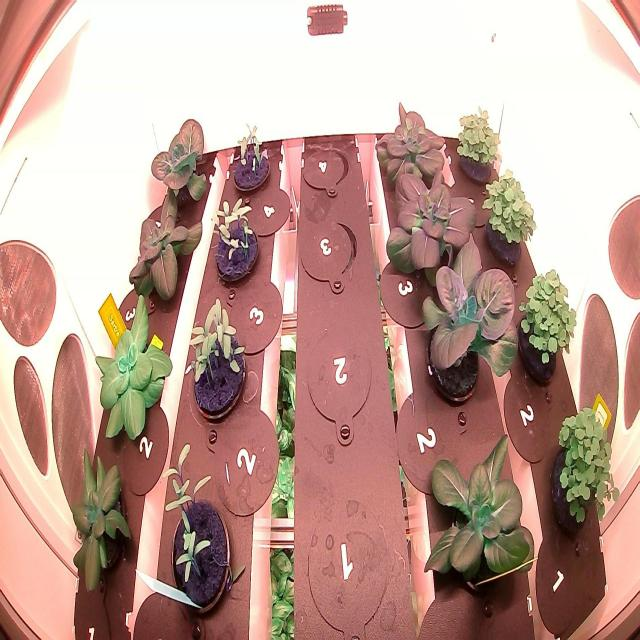empty_pod: (301, 478, 396, 640), (300, 312, 380, 448), (292, 209, 363, 300), (293, 136, 352, 207)
germination: (205, 192, 263, 288), (226, 120, 272, 196)
young: (416, 416, 542, 612), (408, 224, 524, 414), (378, 161, 489, 292), (88, 289, 174, 453), (118, 175, 209, 318), (61, 439, 138, 608), (366, 85, 454, 205), (142, 109, 212, 219)
